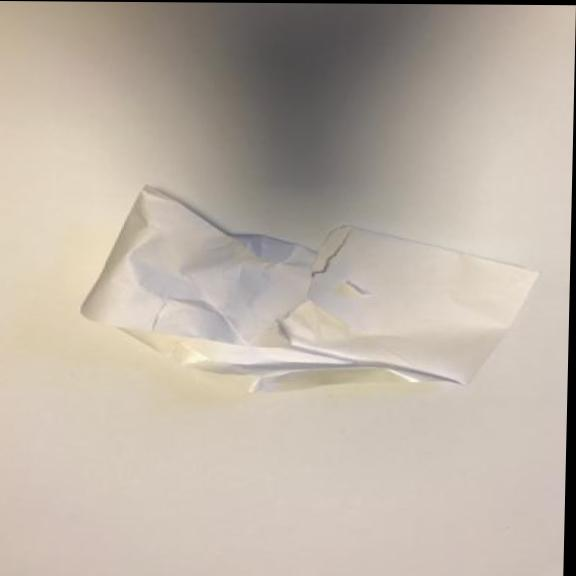Kertas: (69, 179, 540, 405)
